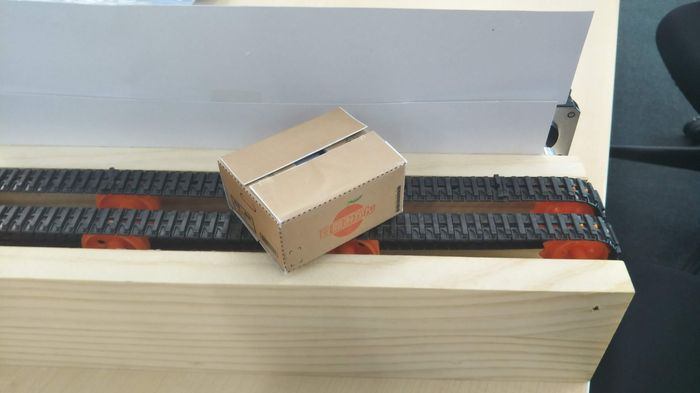box1: (215, 105, 406, 271)
